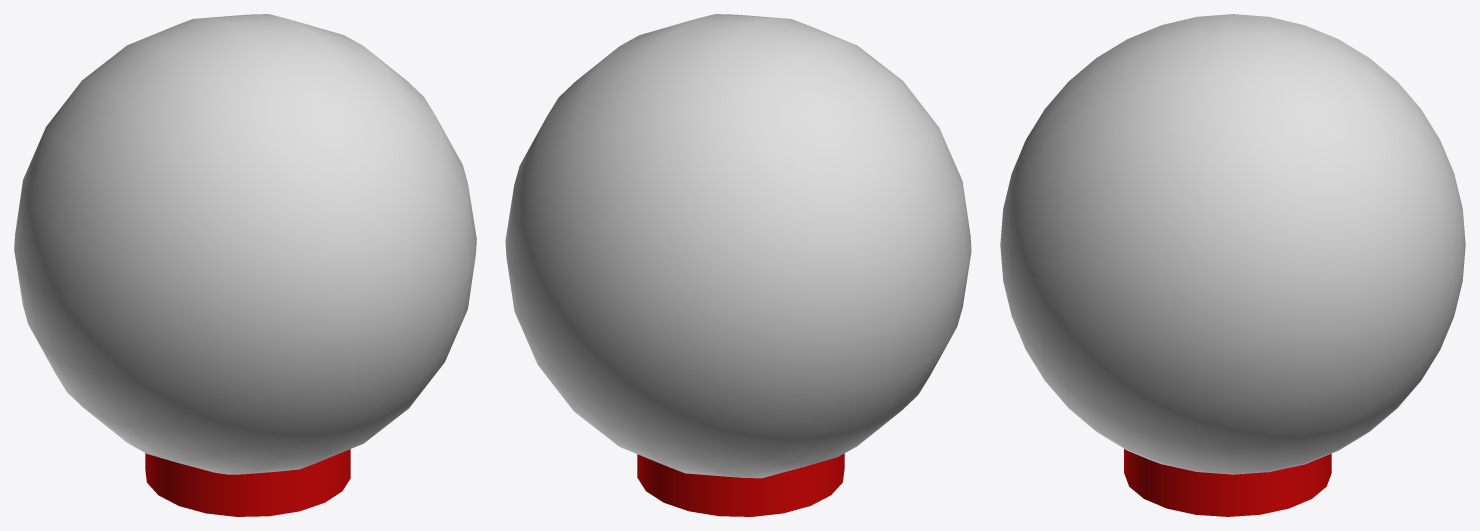
Rendered from miniEnemy.fbx.
3 renders of one model, left to right at view 1: azimuth 30°, elevation 25°; view 2: azimuth 150°, elevation 25°; view 3: azimuth 270°, elevation 25°, orthographic.
Visible parts, largest first — view 1: pSphere2; view 2: pSphere2; view 3: pSphere2.
Boxes of the visible parts, box(x1,y1,x2,y2) form: pSphere2: box(14, 14, 476, 516); pSphere2: box(505, 14, 971, 516); pSphere2: box(1000, 14, 1465, 516).
Size of the model in its own units: 2 by 2.08 by 2.
